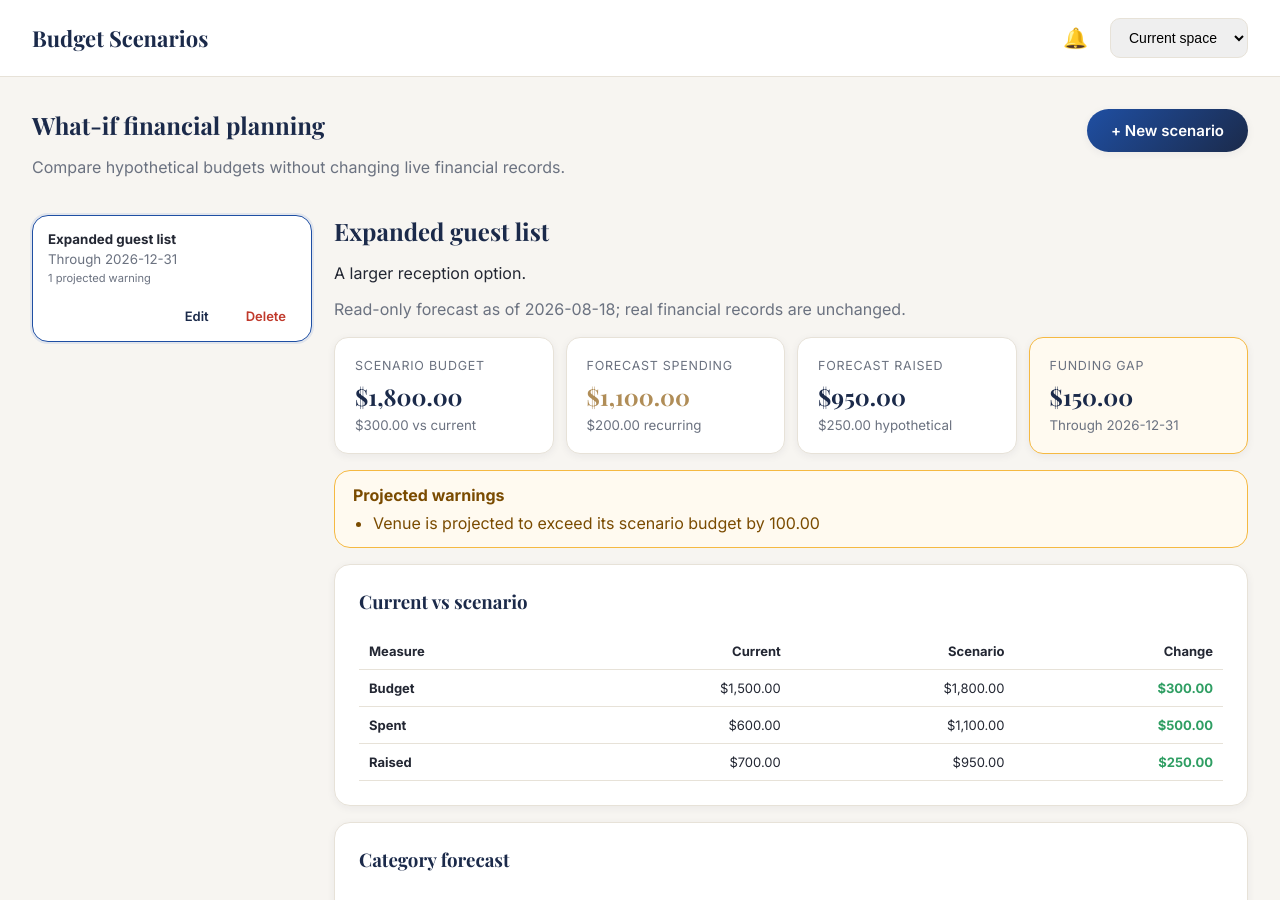
Test: BudgetScenarios editor and write controls › pre-fills existing values in the edit form
Expected: the text "A larger reception option." is shown, [334,263,526,283]
Click the button "Edit" at (197, 316), box [169,300,225,332]
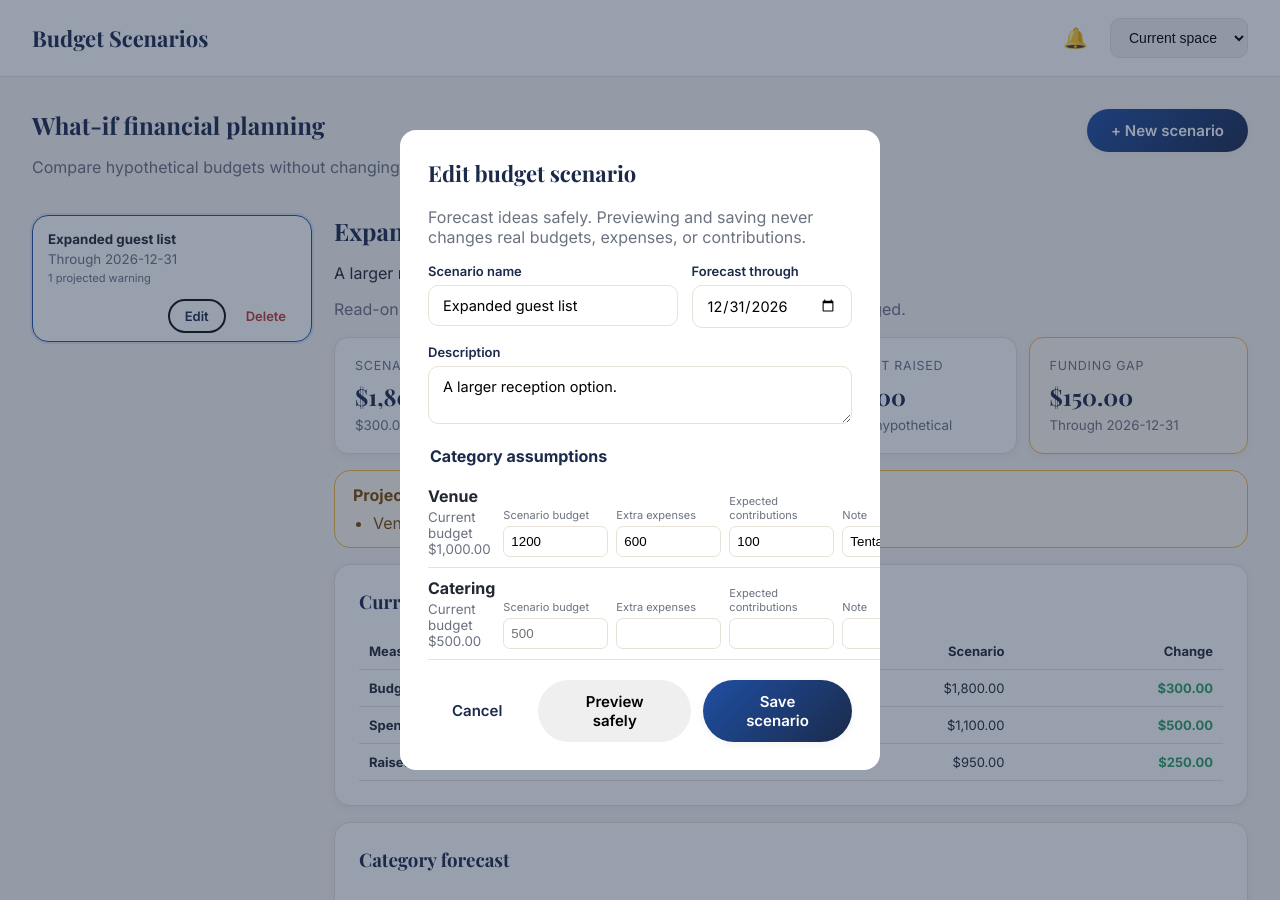
Now the field labelled "Scenario name" holds "Expanded guest list", box [428,285,678,326]
Now the date field labelled "Forecast through" holds "2026-12-31", box [692,285,852,328]
Now the number field named "Venue scenario budget" holds "1200", box [503,526,608,557]
